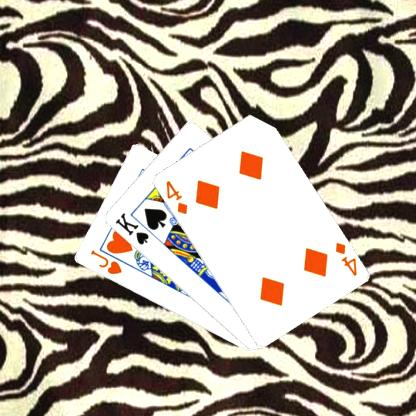4D: (162, 178, 188, 216), (332, 239, 358, 277)
JH: (87, 247, 123, 276)
KS: (112, 210, 150, 246)
